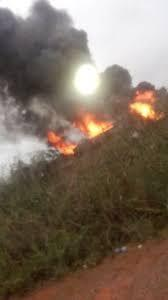fire: (126, 89, 161, 120), (75, 112, 113, 135), (46, 131, 75, 154)
